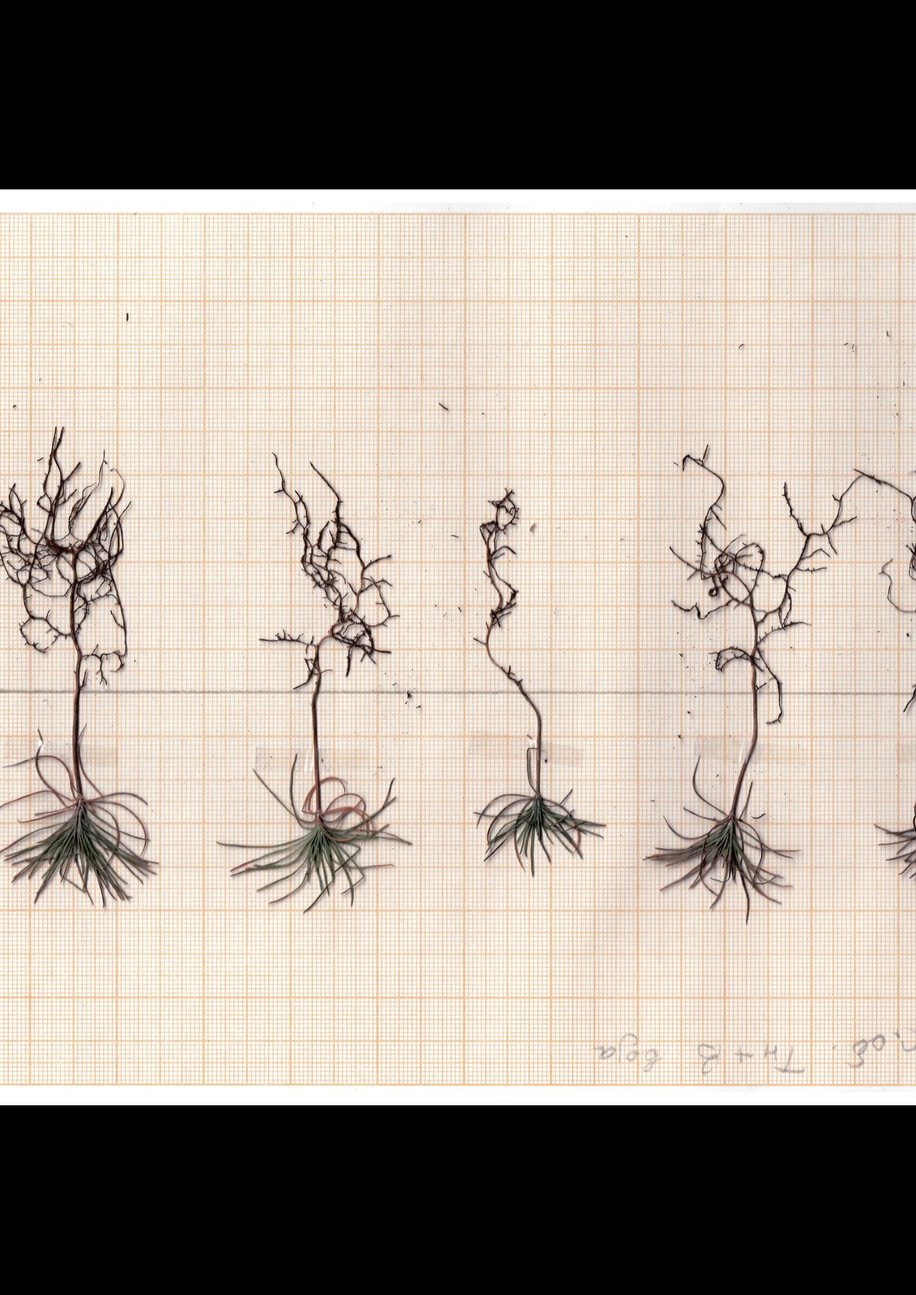cedr: (638, 437, 849, 923), (212, 447, 412, 922), (0, 423, 169, 914), (460, 486, 608, 887), (854, 430, 916, 891)
